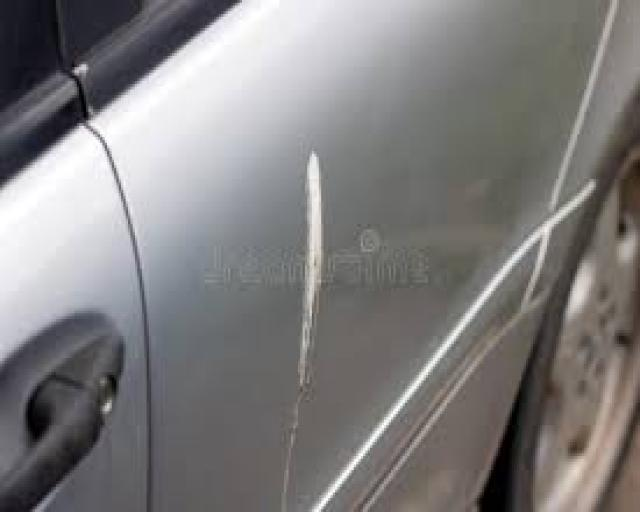scratch: (276, 119, 345, 509)
